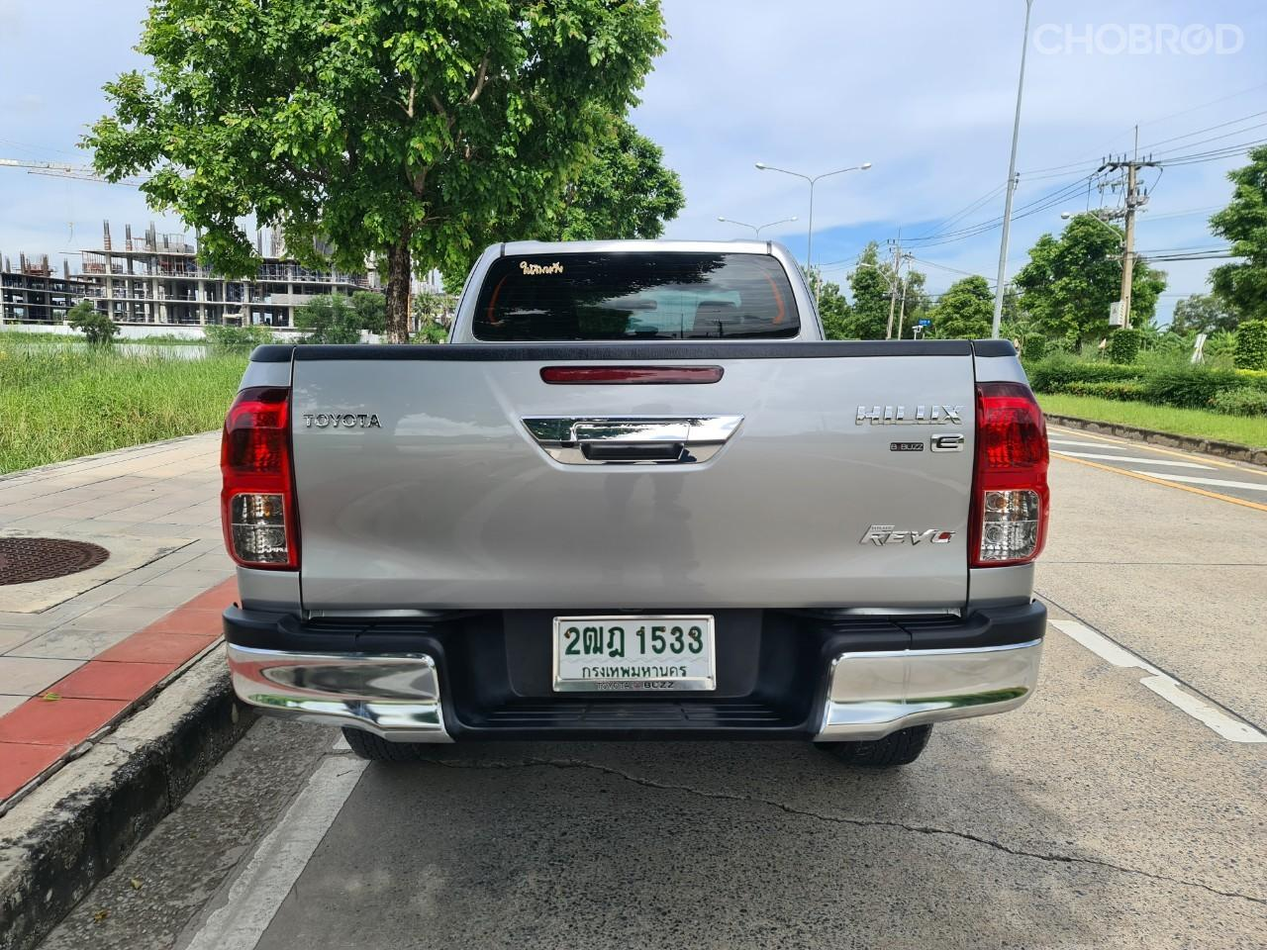license-plate: (551, 614, 721, 694)
